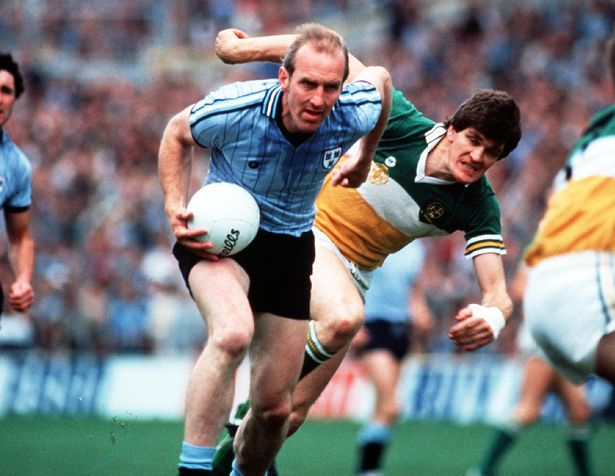ball: (187, 183, 256, 256)
player: (186, 27, 366, 421), (342, 48, 513, 439)
